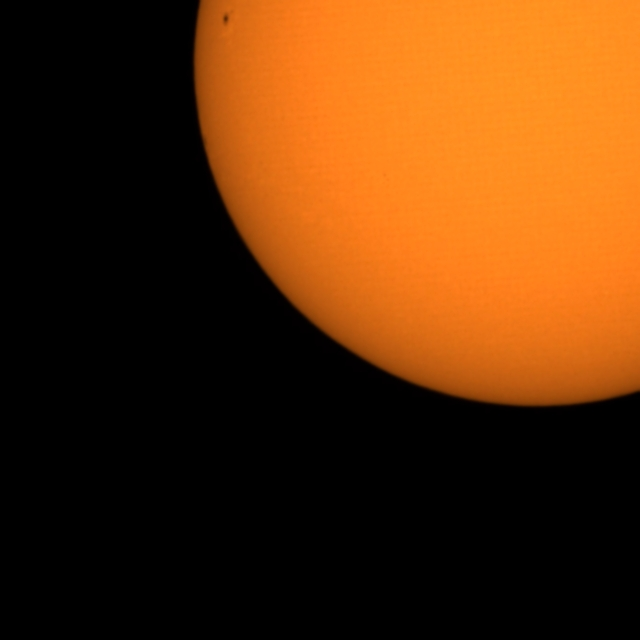sunspot: (221, 8, 234, 28)
